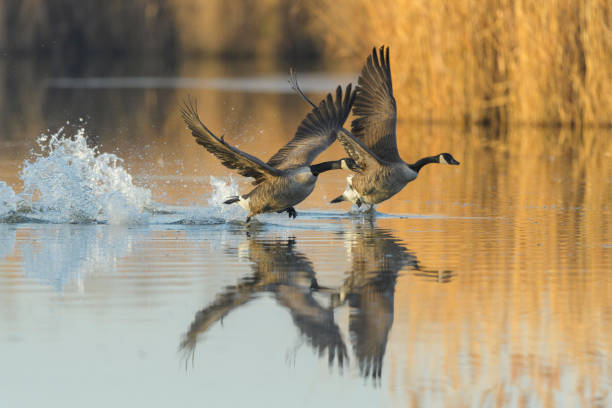goose: (284, 41, 463, 217), (170, 80, 361, 229)
